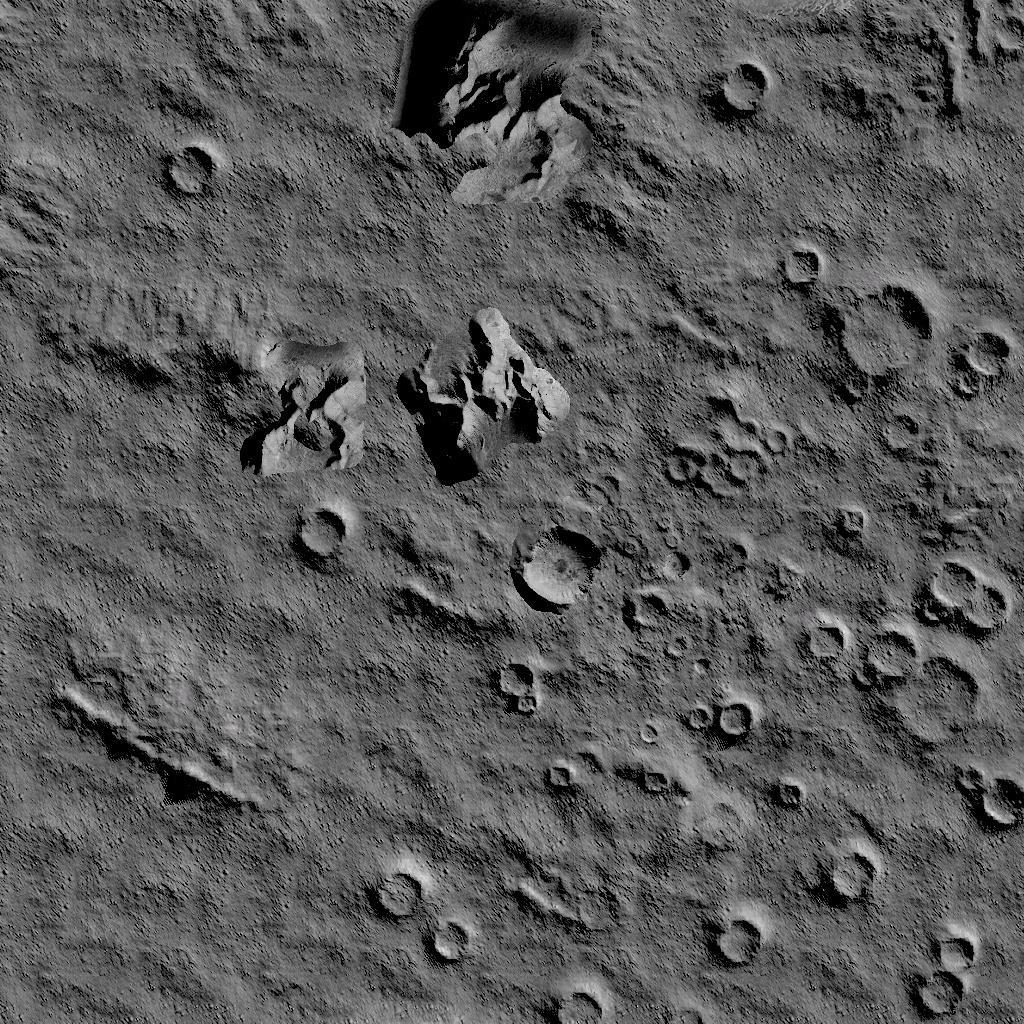Boulders: (406, 15, 658, 258), (60, 288, 370, 478), (0, 0, 346, 93), (818, 0, 1024, 145), (400, 315, 570, 483), (66, 670, 276, 805), (0, 165, 93, 273), (398, 568, 506, 632)
Crater: (784, 245, 928, 378), (658, 398, 778, 498), (868, 645, 980, 743), (378, 870, 470, 963), (916, 560, 1015, 635), (516, 525, 600, 608), (914, 930, 978, 1018), (947, 760, 1024, 830), (951, 328, 1005, 400), (300, 500, 356, 565), (716, 58, 773, 120), (684, 692, 752, 742), (166, 145, 218, 203), (821, 850, 875, 905), (714, 915, 770, 968), (496, 662, 543, 722), (801, 618, 845, 670), (624, 585, 666, 628), (550, 990, 600, 1020), (656, 998, 710, 1022), (541, 760, 578, 795), (636, 768, 673, 802), (758, 765, 798, 795)
Plan surface: (0, 818, 368, 1024), (0, 490, 291, 658), (306, 645, 483, 808), (246, 108, 393, 276)
